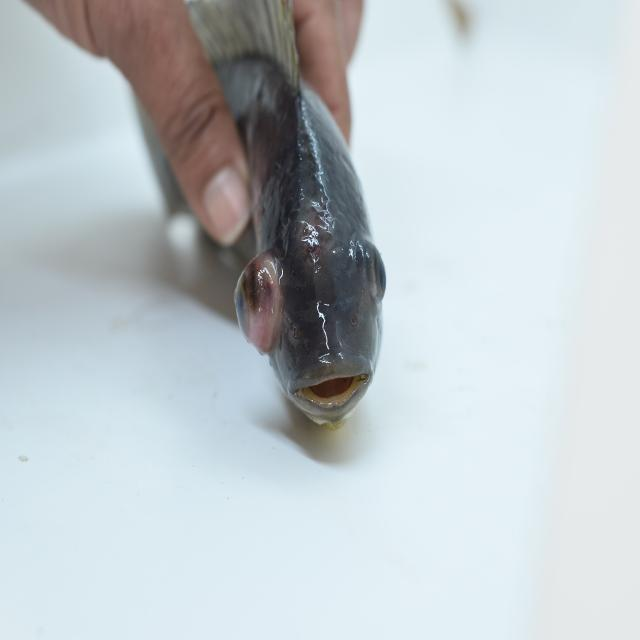streptococcus Disease: (147, 2, 392, 442)
